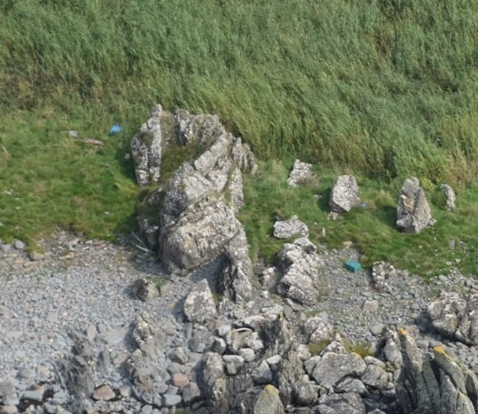white_in_green: (336, 246, 376, 285), (96, 110, 134, 146)
